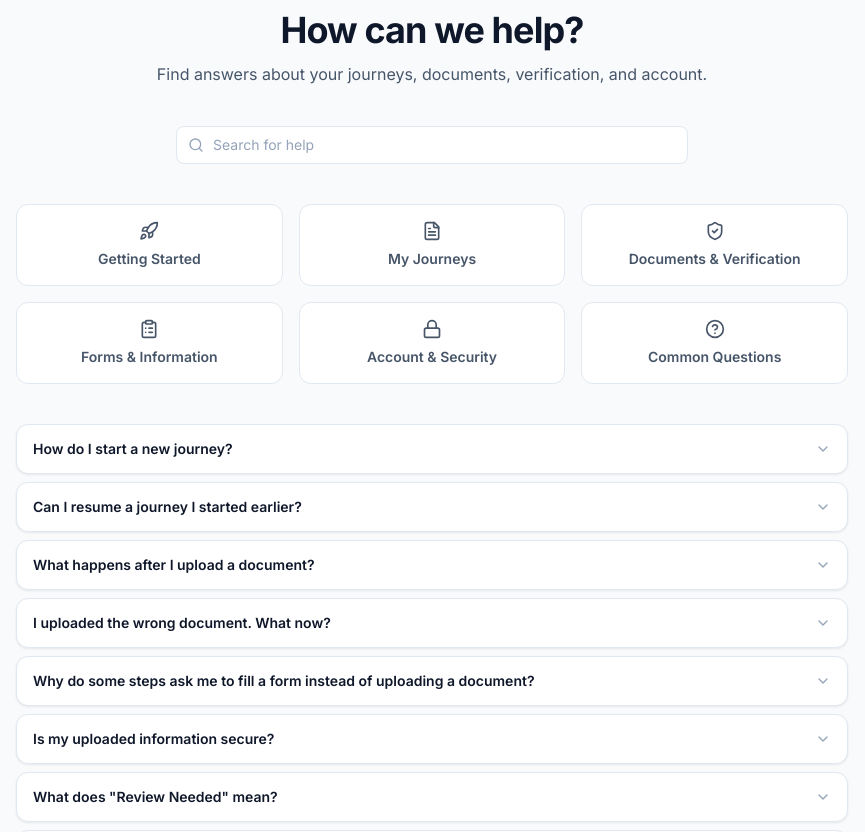
it: HelpScreen › filters FAQ items by search query
The image size is (865, 832).
Type "resume" into the search field with placeholder "Search for help" at (432, 145), box [176,126,688,164]
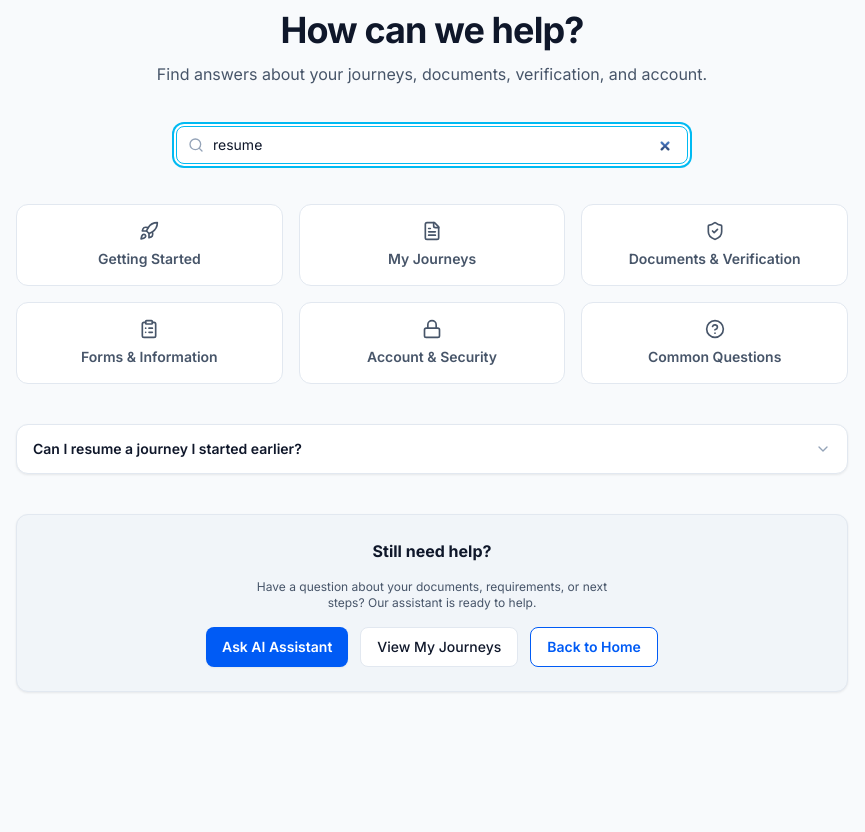
Expected: the text "Can I resume a journey I started earlier?" is shown, [33,439,302,459]
Now the button "Is my uploaded information secure?" is gone
